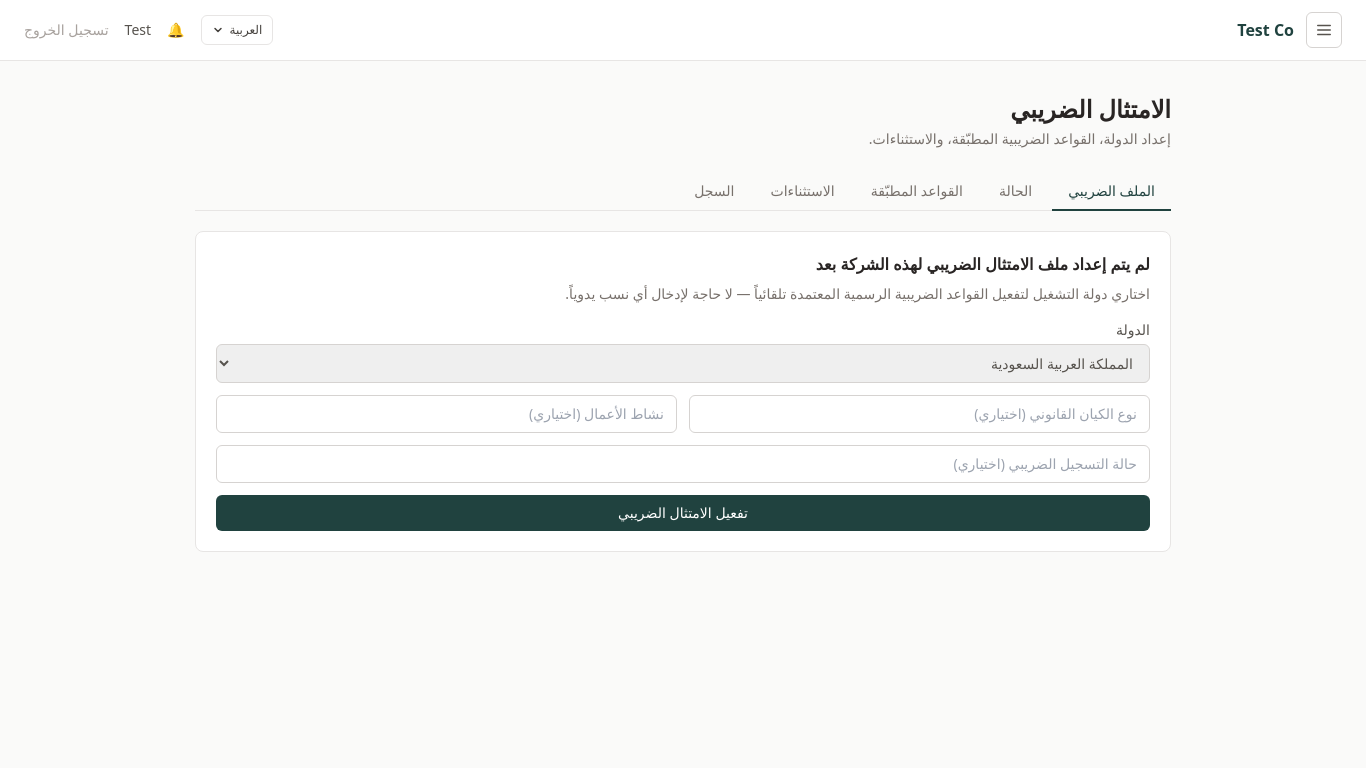
<Compliance/> — Profile / Onboarding › 6. a successful configuration refreshes the page into the configured state
What coordinates should you click on to do the following:
click the button "تفعيل الامتثال الضريبي"
I would click on:
 (683, 513)
Its box is [216,495,1150,531].
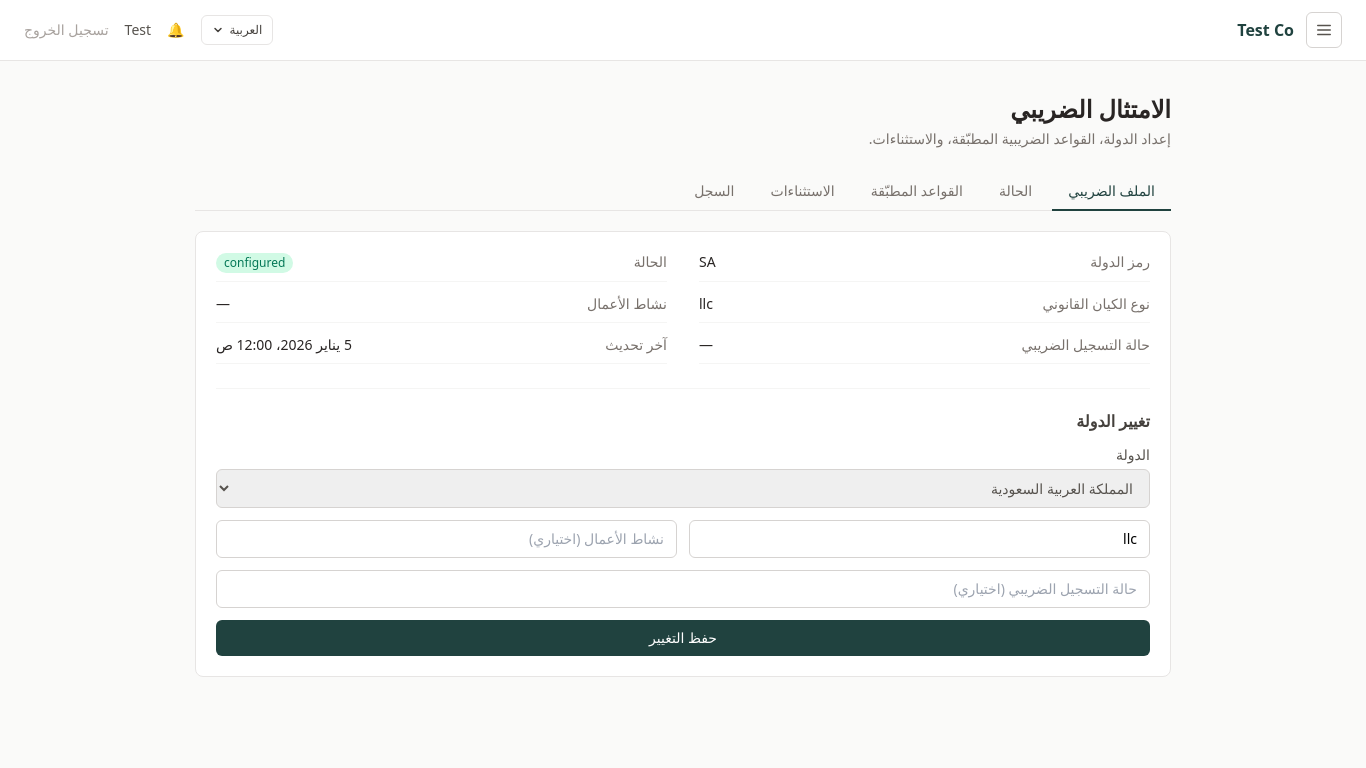
expect the heading "تغيير الدولة" is shown: met, box [1076,410,1150,432]
